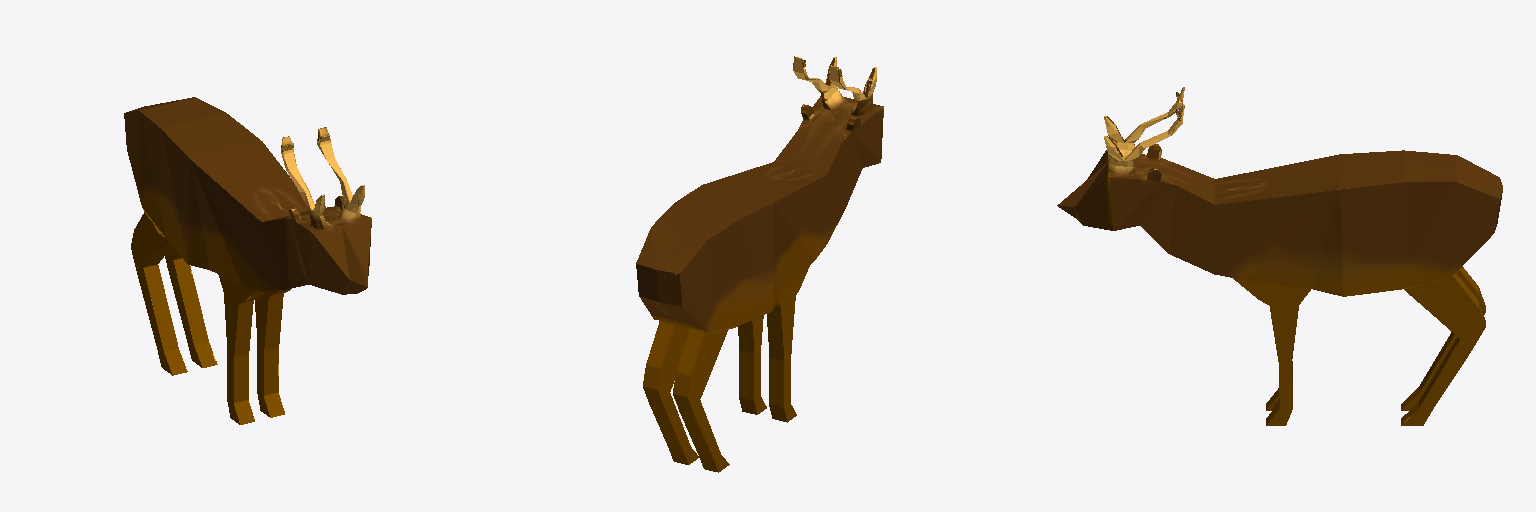
The picture shows the model from 3 angles: view 1: azimuth 30°, elevation 25°; view 2: azimuth 150°, elevation 25°; view 3: azimuth 270°, elevation 25°; orthographic projection.
Visible parts, largest first — view 1: Cube; view 2: Cube; view 3: Cube.
Boxes of the visible parts, box(x1,y1,x2,y2) form: Cube: box(124, 97, 371, 424); Cube: box(636, 56, 883, 472); Cube: box(1057, 87, 1502, 425).
Bounding box in the file's own units: 0.696 × 2.92 × 3.72.
1 materials, 1 textured.